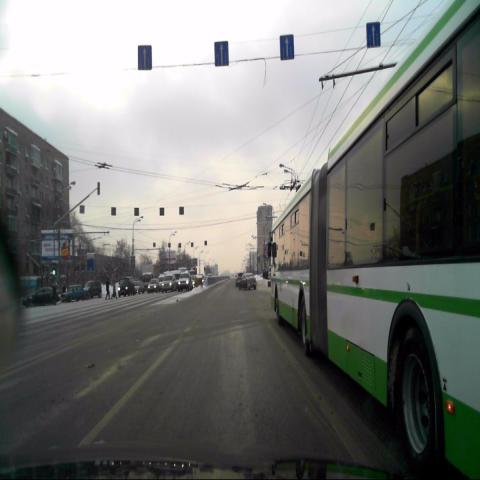5_15_2: (280, 33, 293, 59)
